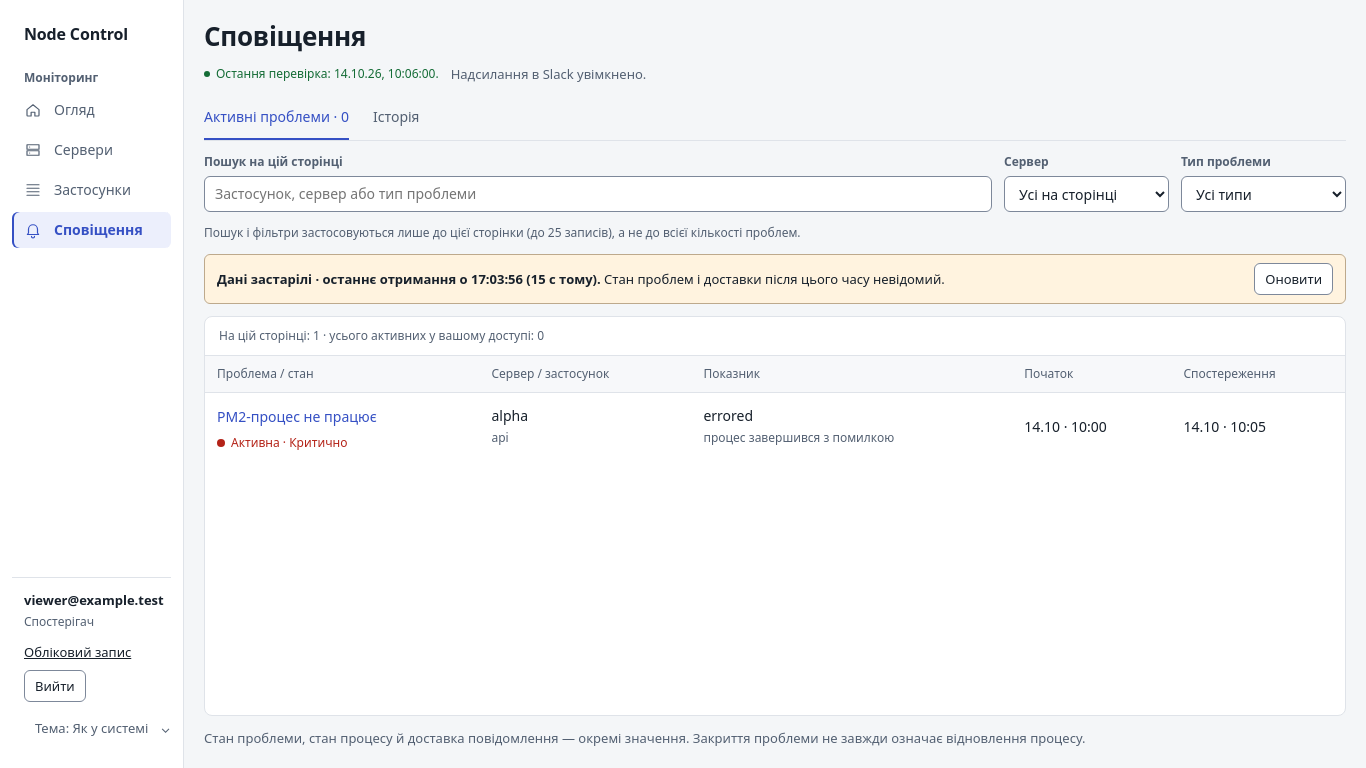
alerts: list (NTF-01/02) and its states (NTF-05/06/07) › NTF-07 stale: a failed refresh keeps the previous rows under one warning with the time they were received
Expected: the text "Стан проблем і доставки після цього часу невідомий" is shown, [601, 270, 945, 288]
Expected: the text "api" is shown, [492, 428, 509, 446]
Click the button "Оновити": click(1294, 279) [1254, 263, 1333, 295]
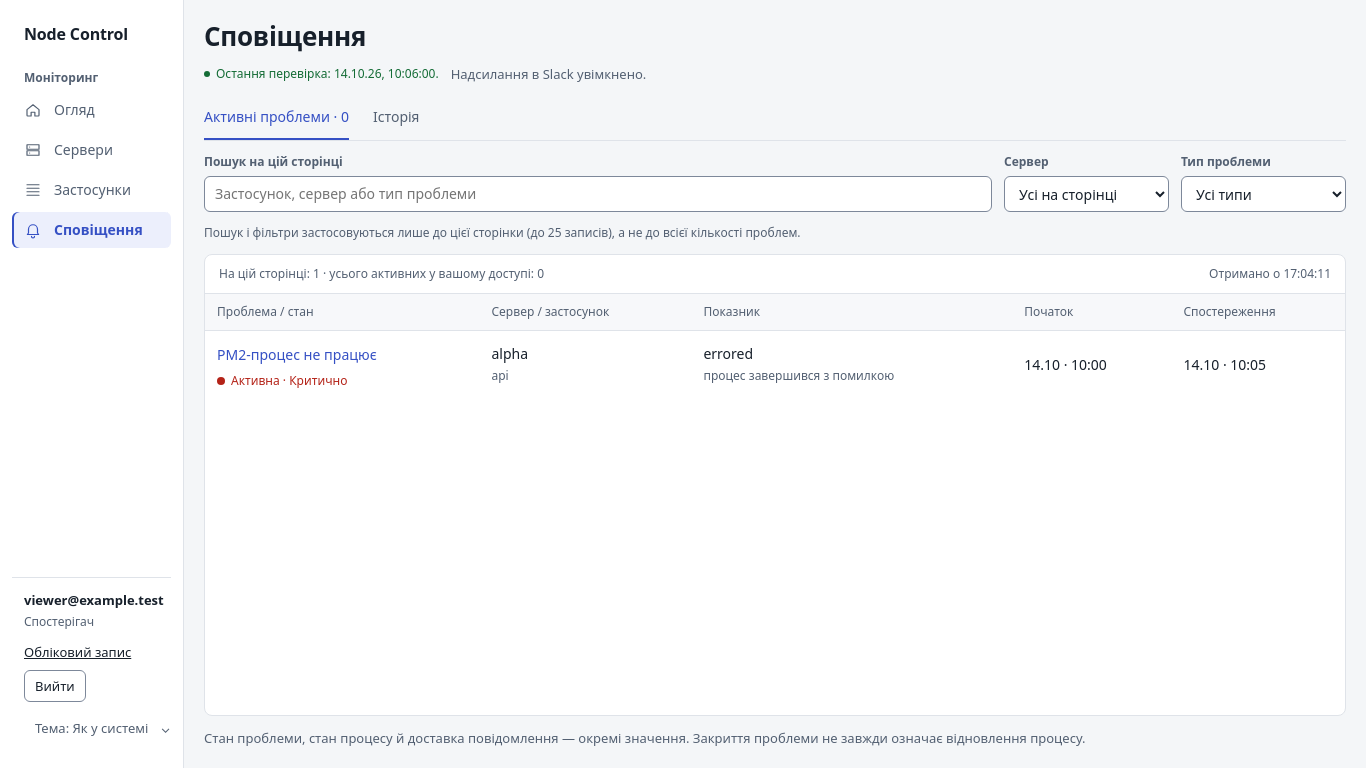
Now the text "Дані застарілі" is gone
